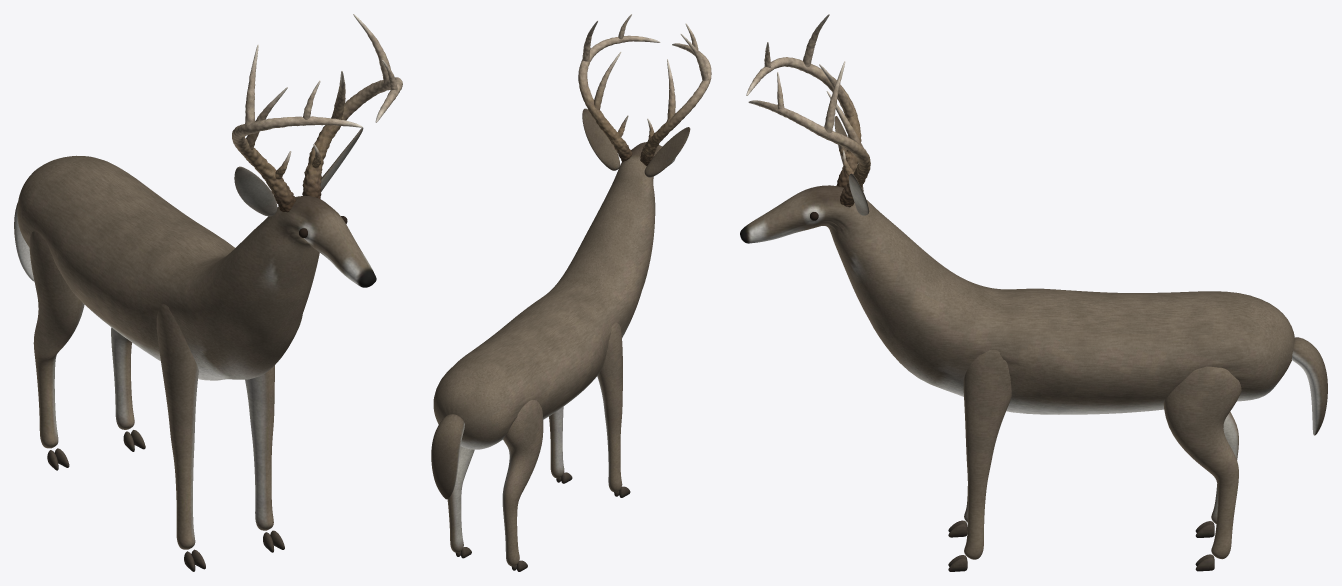
File: tallboy.glb
The picture shows the model from 3 angles, left to right: view 1: azimuth 30°, elevation 25°; view 2: azimuth 150°, elevation 25°; view 3: azimuth 270°, elevation 25°; orthographic projection. The views are drawn at different scales.
Parts seen in each view (by area): view 1: Tallboy_Body, Tallboy_Antlers; view 2: Tallboy_Body, Tallboy_Antlers; view 3: Tallboy_Body, Tallboy_Antlers.
Part boxes in pixels (x1=…): Tallboy_Body: x1=14, y1=127, x2=376, y2=571; Tallboy_Antlers: x1=232, y1=14, x2=402, y2=212; Tallboy_Body: x1=431, y1=108, x2=690, y2=571; Tallboy_Antlers: x1=578, y1=14, x2=711, y2=166; Tallboy_Body: x1=740, y1=116, x2=1327, y2=571; Tallboy_Antlers: x1=746, y1=14, x2=870, y2=207.
Bounding box in the file's own units: 0.6184 × 2.1 × 2.16.
3 materials, 2 textured.
